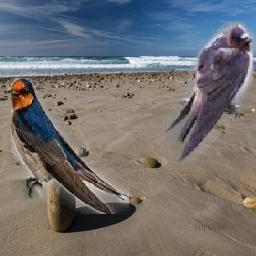Swallow: (11, 78, 129, 214), (164, 21, 254, 163)
